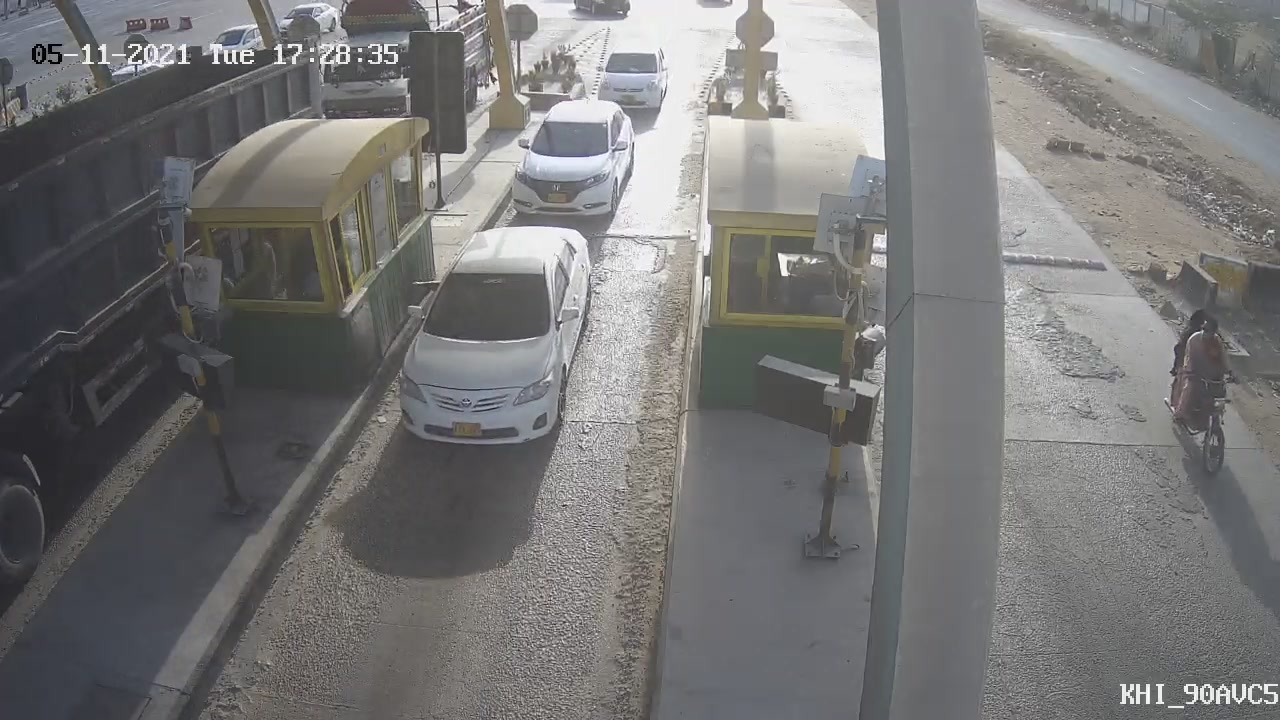F1: (369, 209, 612, 479), (490, 79, 653, 237)
